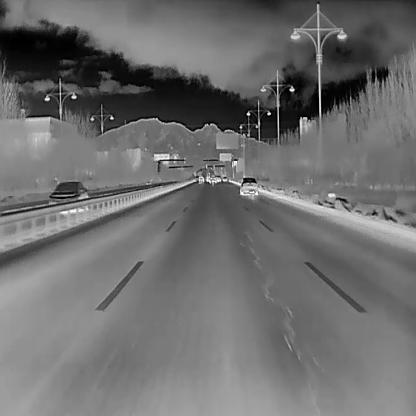car: (48, 180, 88, 206), (238, 175, 257, 195), (208, 173, 216, 184), (197, 173, 204, 184), (204, 171, 210, 183), (214, 174, 220, 181), (221, 176, 227, 181)
